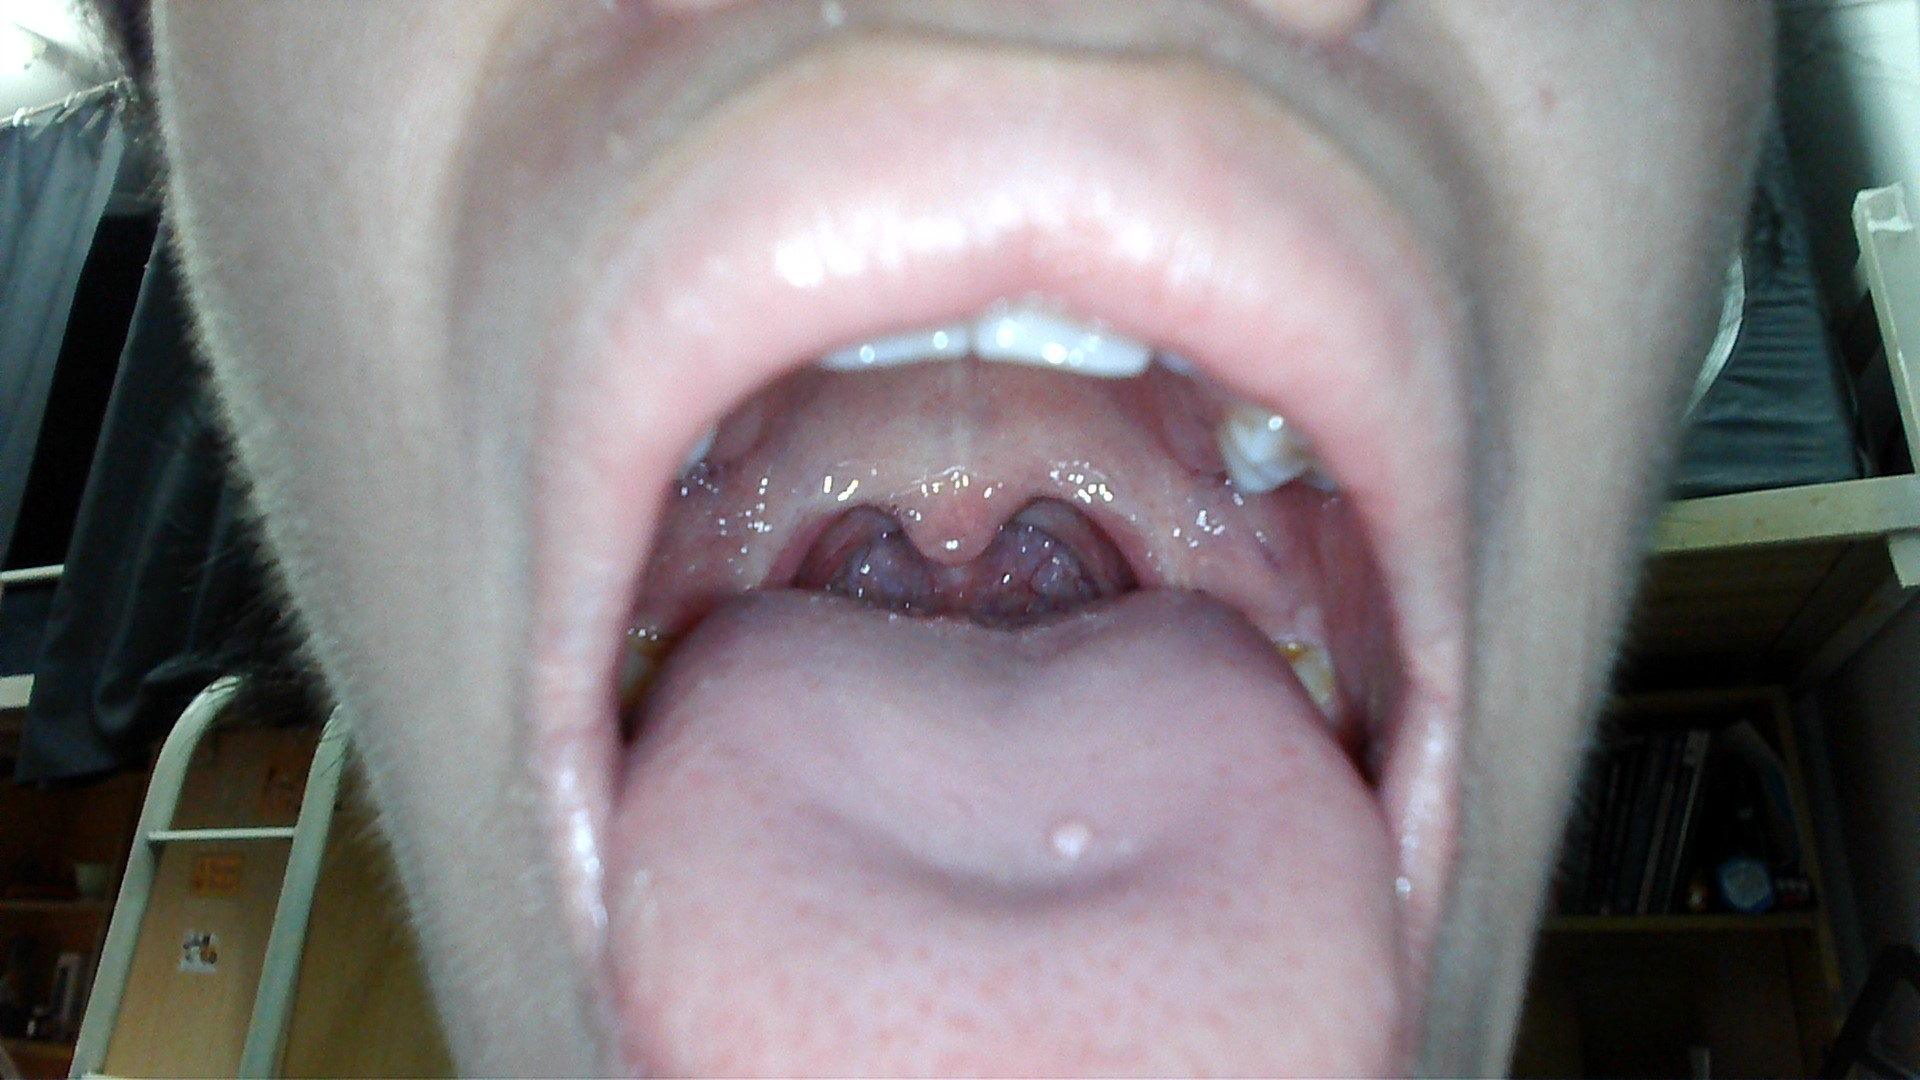throat: (1091, 480, 1158, 584), (762, 496, 825, 588)
